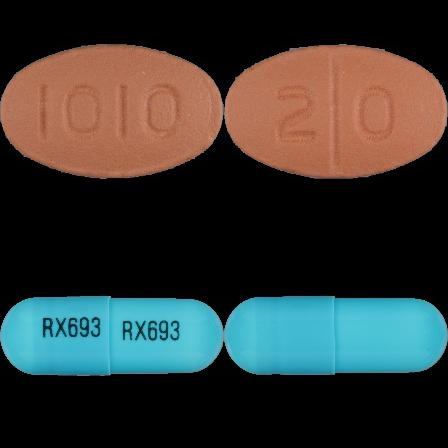21695-031: (0, 0, 224, 224)
